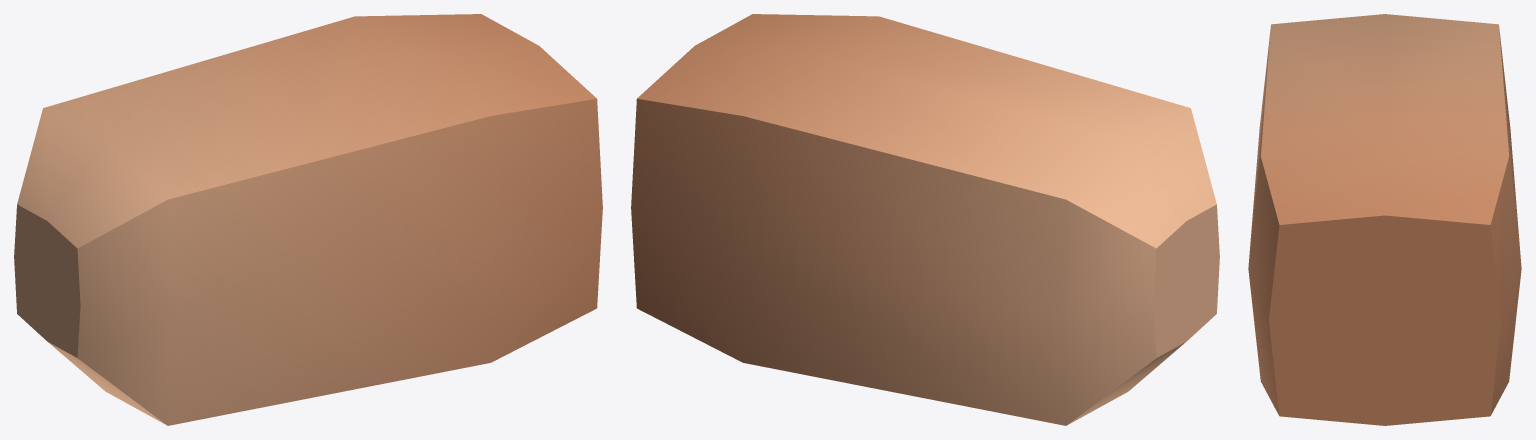
File: arm-right.002_lev2.glb
The picture shows the model from 3 angles, left to right: view 1: azimuth 30°, elevation 25°; view 2: azimuth 150°, elevation 25°; view 3: azimuth 270°, elevation 25°; orthographic projection. The views are drawn at different scales.
Visible parts, largest first — view 1: arm-right.002_lev2; view 2: arm-right.002_lev2; view 3: arm-right.002_lev2.
Boxes of the visible parts, x1,y1,x2,y2 form: arm-right.002_lev2: (14,14,602,425); arm-right.002_lev2: (631,14,1219,425); arm-right.002_lev2: (1248,14,1521,425).
Size of the model in its own units: 0.2013 by 0.1062 by 0.1062.
1 material, 1 textured.
